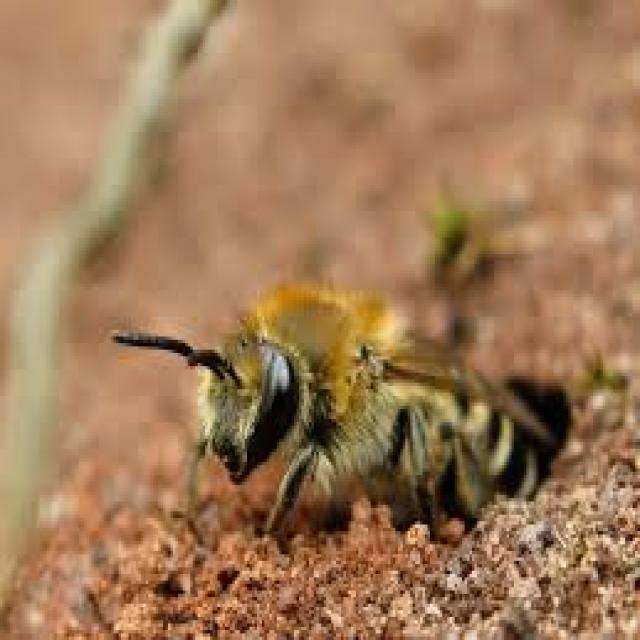Bees: (110, 282, 574, 549)
